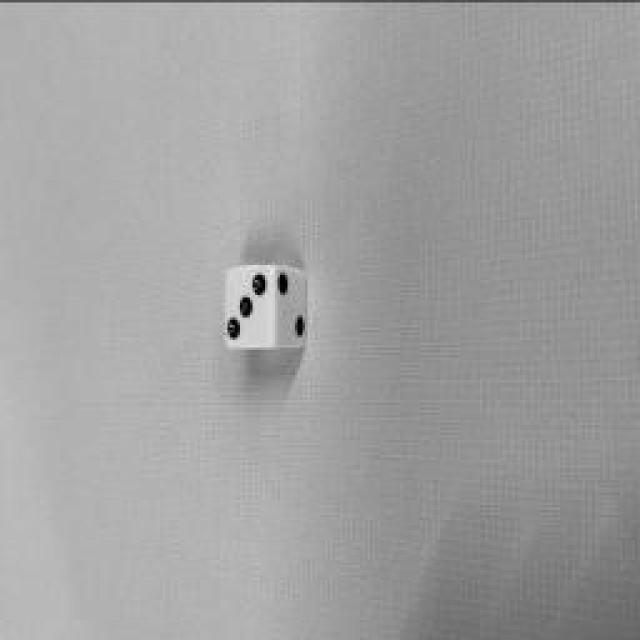dice_3: (225, 265, 275, 347)
